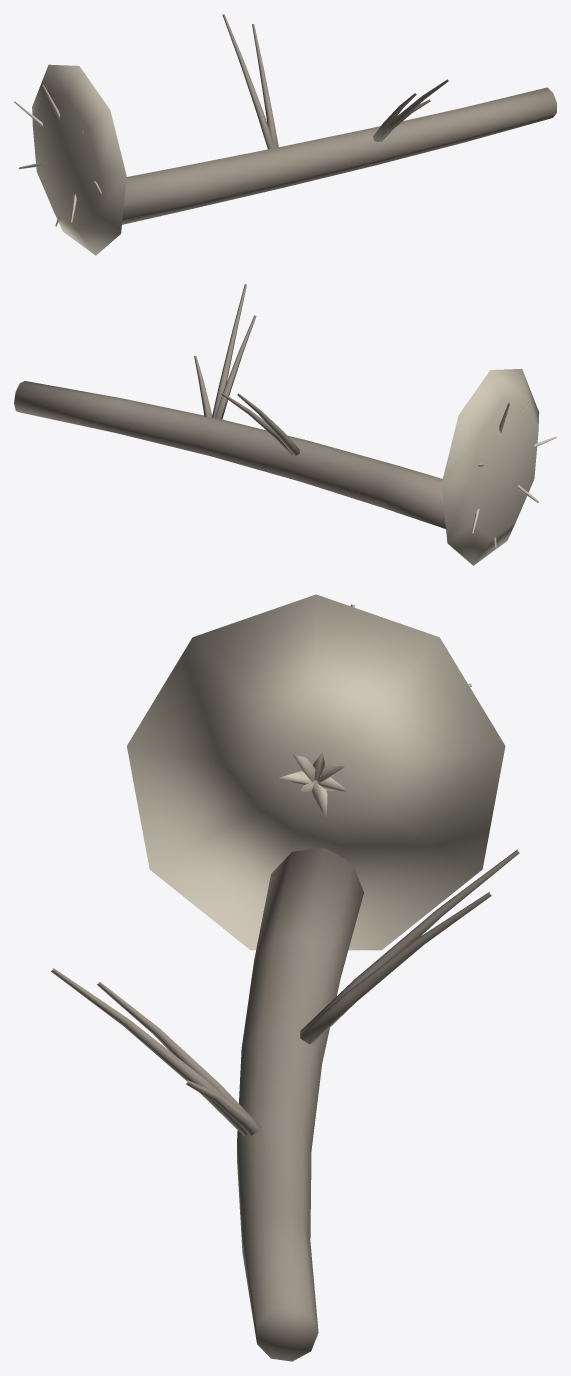
The model's file is alpine-and-arctic-biomes-windthrown-trunk-84ea4f0f__20943.glb.
3 renders of one model, top to bottom at view 1: azimuth 30°, elevation 25°; view 2: azimuth 150°, elevation 25°; view 3: azimuth 270°, elevation 25°, orthographic. The views are drawn at different scales.
Visible parts, largest first — view 1: windthrown-trunk; view 2: windthrown-trunk; view 3: windthrown-trunk.
Part boxes in pixels (x1,y1,x2,y2): windthrown-trunk: [14, 14, 556, 255]; windthrown-trunk: [14, 284, 556, 565]; windthrown-trunk: [51, 594, 519, 1361].
Size of the model in its own units: 5.41 by 1.87 by 2.24.
